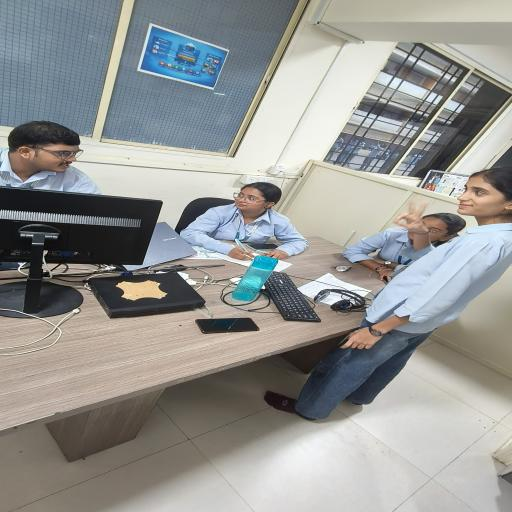survivor: (263, 166, 512, 422), (180, 182, 310, 261), (342, 213, 467, 283), (0, 120, 103, 195)
